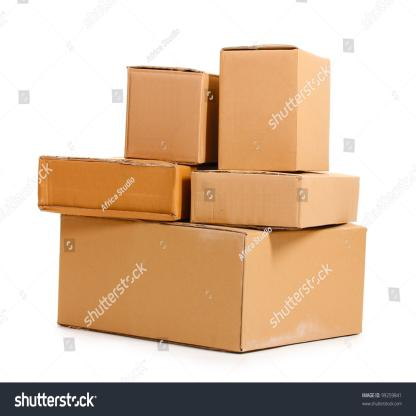box: (57, 213, 246, 354), (220, 49, 298, 172), (38, 156, 178, 221), (126, 68, 204, 164), (190, 170, 300, 227)
